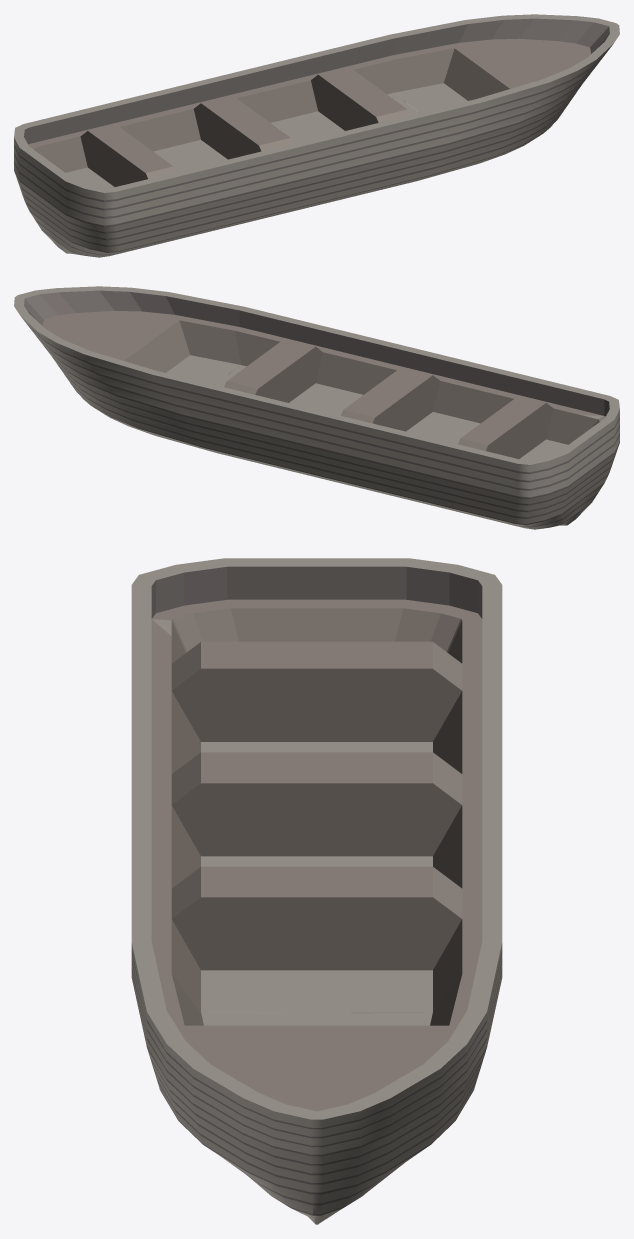
The model's file is Boat.fbx.
3 views of the same model, one above another, from view 1: azimuth 30°, elevation 25°; view 2: azimuth 150°, elevation 25°; view 3: azimuth 270°, elevation 25° (orthographic). The views are drawn at different scales.
Parts seen in each view (by area): view 1: Boat; view 2: Boat; view 3: Boat.
Boxes of the visible parts, x1,y1,x2,y2 form: Boat: [14, 14, 619, 257]; Boat: [14, 286, 619, 529]; Boat: [131, 558, 502, 1224].
Bounding box in the file's own units: 663 × 100 × 185.
